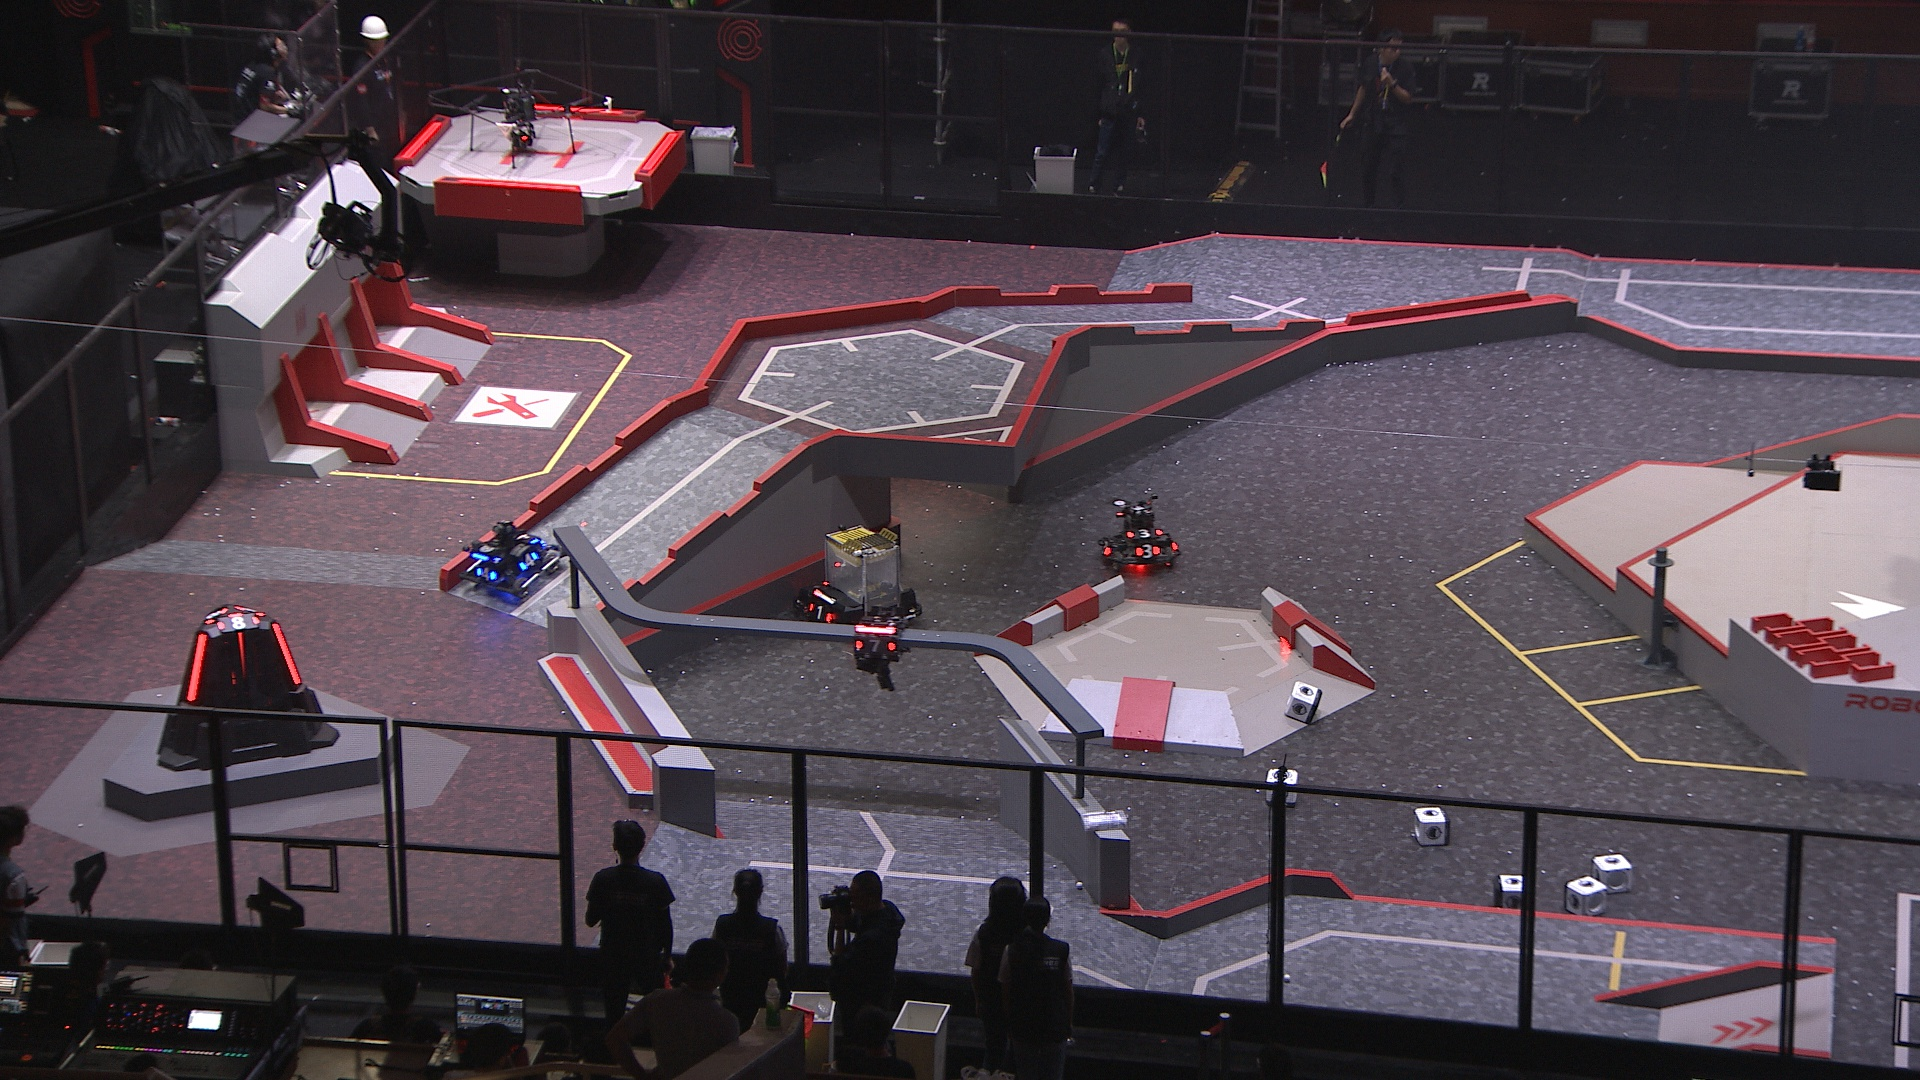armor: (268, 618, 302, 690), (182, 629, 210, 704), (215, 612, 258, 632), (855, 636, 895, 655), (806, 599, 831, 626), (233, 632, 248, 675), (1124, 526, 1163, 542), (1130, 542, 1160, 560), (472, 564, 498, 585), (516, 550, 538, 572), (513, 529, 541, 546), (202, 605, 224, 626), (240, 604, 266, 618), (1100, 537, 1112, 559)
base: (150, 599, 343, 774)
car: (796, 518, 922, 640), (458, 517, 564, 608), (1095, 491, 1185, 576)
watcher: (849, 604, 909, 692)
